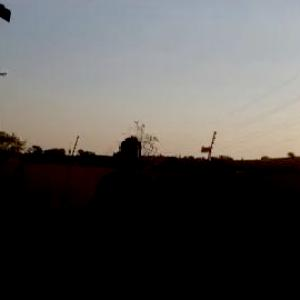follow: (86, 132, 160, 299)
